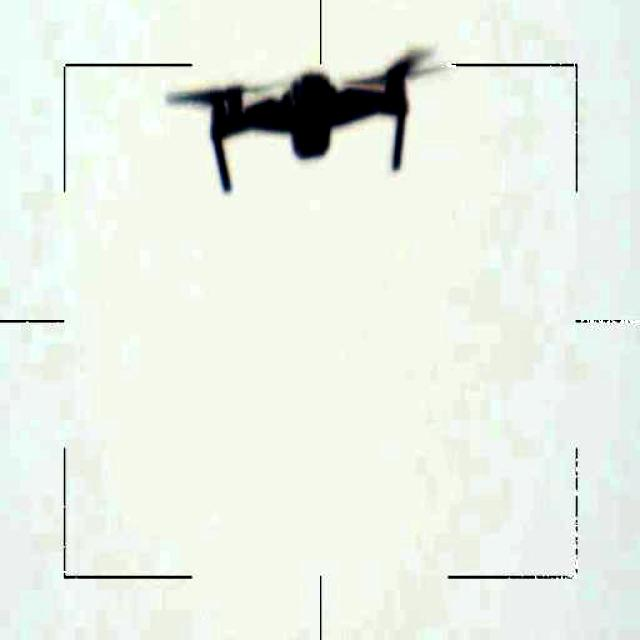bird: (152, 41, 445, 196)
